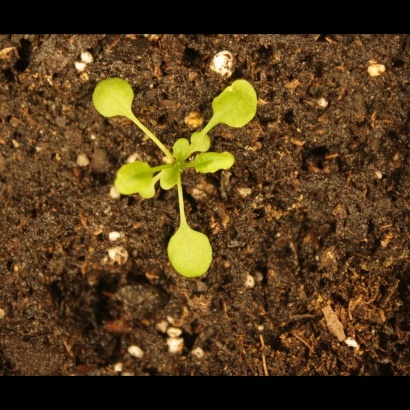leaf: (202, 72, 269, 133), (160, 218, 219, 287), (86, 68, 140, 125), (110, 158, 153, 196), (189, 149, 239, 176), (187, 128, 214, 157), (169, 135, 192, 166), (156, 167, 180, 194), (135, 179, 158, 202)
